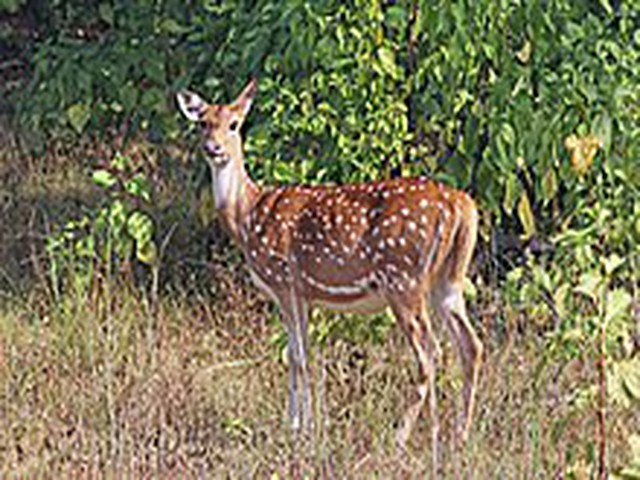deer: (167, 74, 502, 443)
